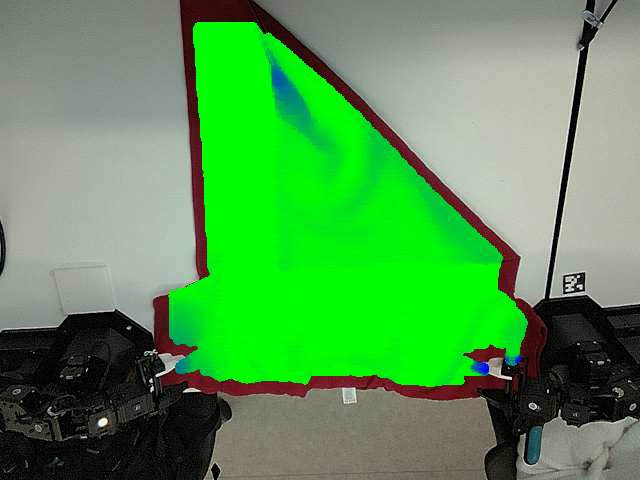V: (265, 236, 312, 280)
